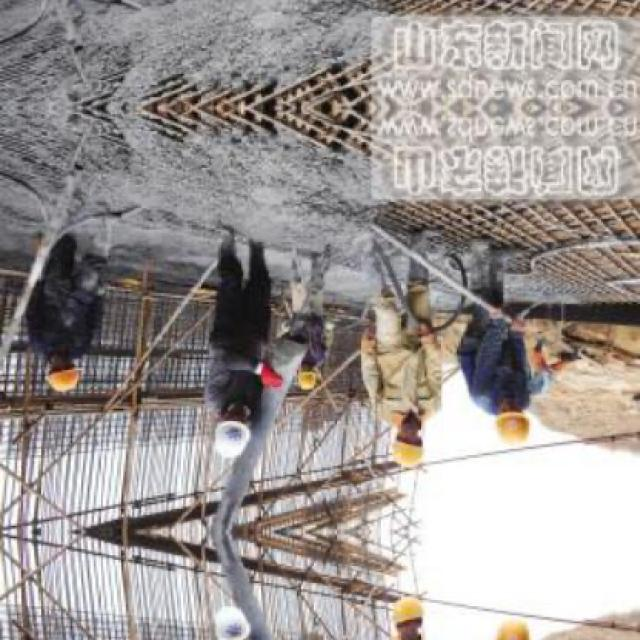con casco: (358, 383, 442, 485), (195, 375, 269, 464), (479, 387, 537, 469), (41, 346, 99, 396)
